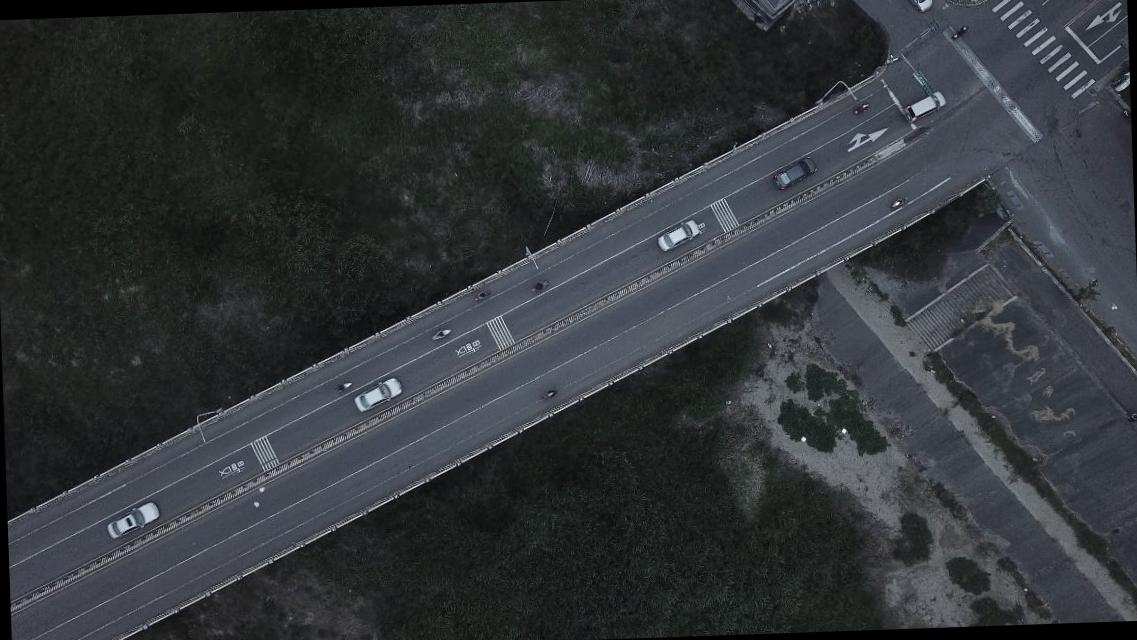vehicle: (105, 500, 160, 540), (351, 377, 403, 412), (770, 155, 818, 191), (656, 217, 700, 253), (902, 90, 947, 124), (895, 0, 934, 15)
